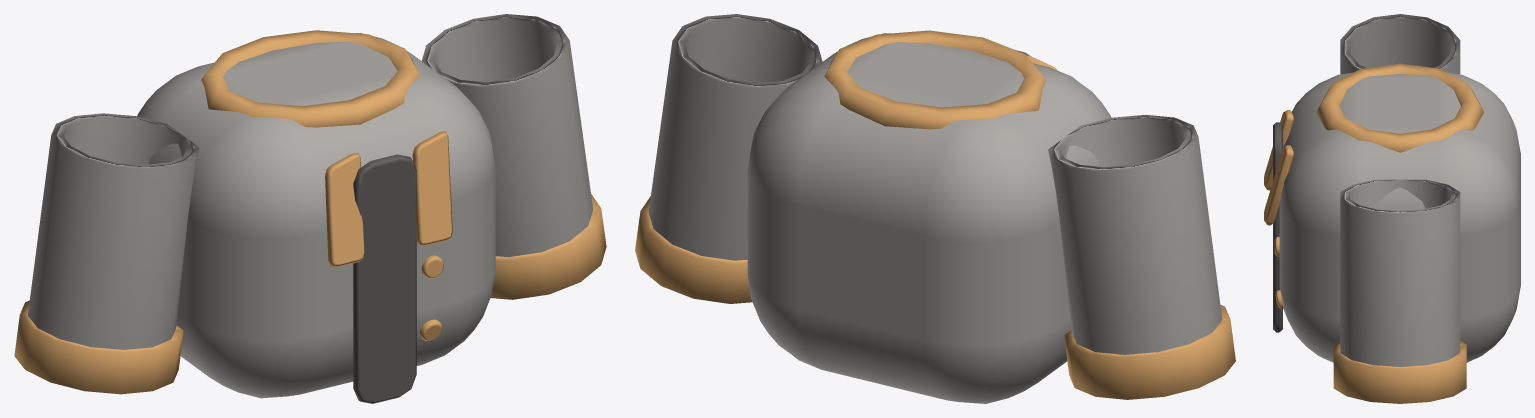
The model's file is acid_washed_jacket.glb.
3 views of the same model, side by side, from view 1: azimuth 30°, elevation 25°; view 2: azimuth 150°, elevation 25°; view 3: azimuth 270°, elevation 25° (orthographic). The views are drawn at different scales.
Visible parts, largest first — view 1: acid_washed_jacket_Body, acid_washed_jacket_ArmL, acid_washed_jacket_ArmR; view 2: acid_washed_jacket_Body, acid_washed_jacket_ArmL, acid_washed_jacket_ArmR; view 3: acid_washed_jacket_Body, acid_washed_jacket_ArmR, acid_washed_jacket_ArmL.
Boxes of the visible parts, bbox=[...] form: acid_washed_jacket_Body: bbox=[137, 30, 495, 403]; acid_washed_jacket_ArmL: bbox=[14, 113, 199, 394]; acid_washed_jacket_ArmR: bbox=[422, 14, 606, 299]; acid_washed_jacket_Body: bbox=[747, 30, 1111, 403]; acid_washed_jacket_ArmL: bbox=[1048, 114, 1235, 399]; acid_washed_jacket_ArmR: bbox=[635, 14, 822, 303]; acid_washed_jacket_Body: bbox=[1264, 63, 1520, 362]; acid_washed_jacket_ArmR: bbox=[1333, 179, 1466, 403]; acid_washed_jacket_ArmL: bbox=[1340, 14, 1460, 74].
Bounding box in the file's own units: 0.6504 × 0.3119 × 0.3085.
